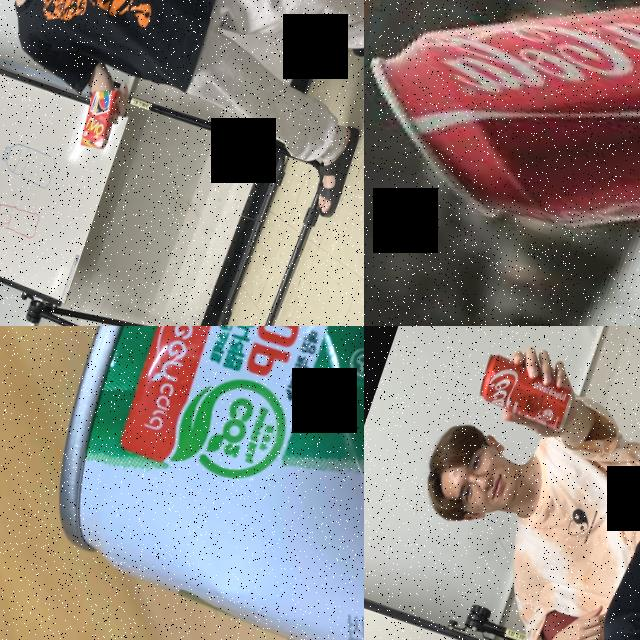can: (23, 326, 364, 640), (364, 0, 640, 326), (470, 348, 580, 433)
